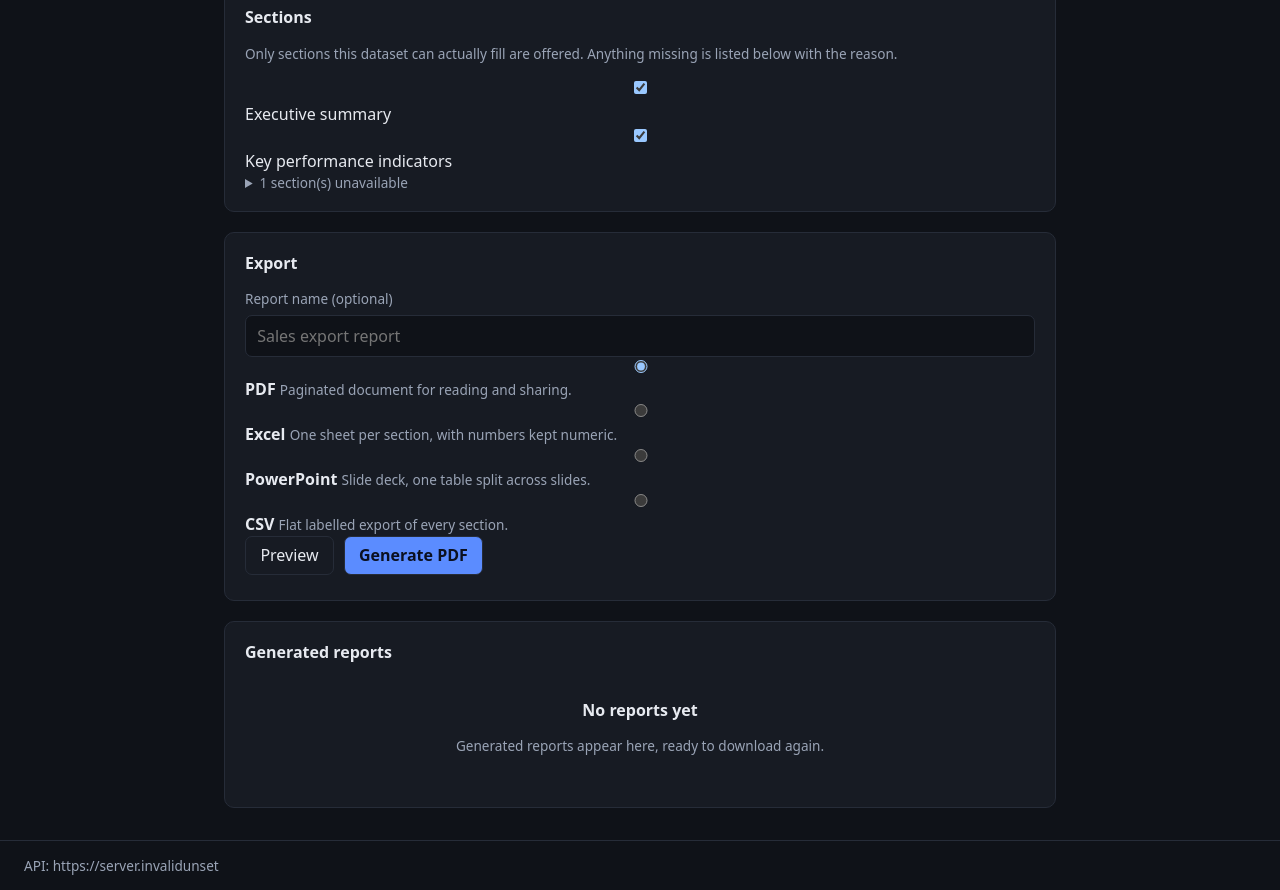
Test: DatasetReportsPage › previews the same report the export is built from
The image size is (1280, 890).
(page scrolled)
Click the button "Preview" at (290, 555), box 245,536 -> 334,575
(page scrolled)
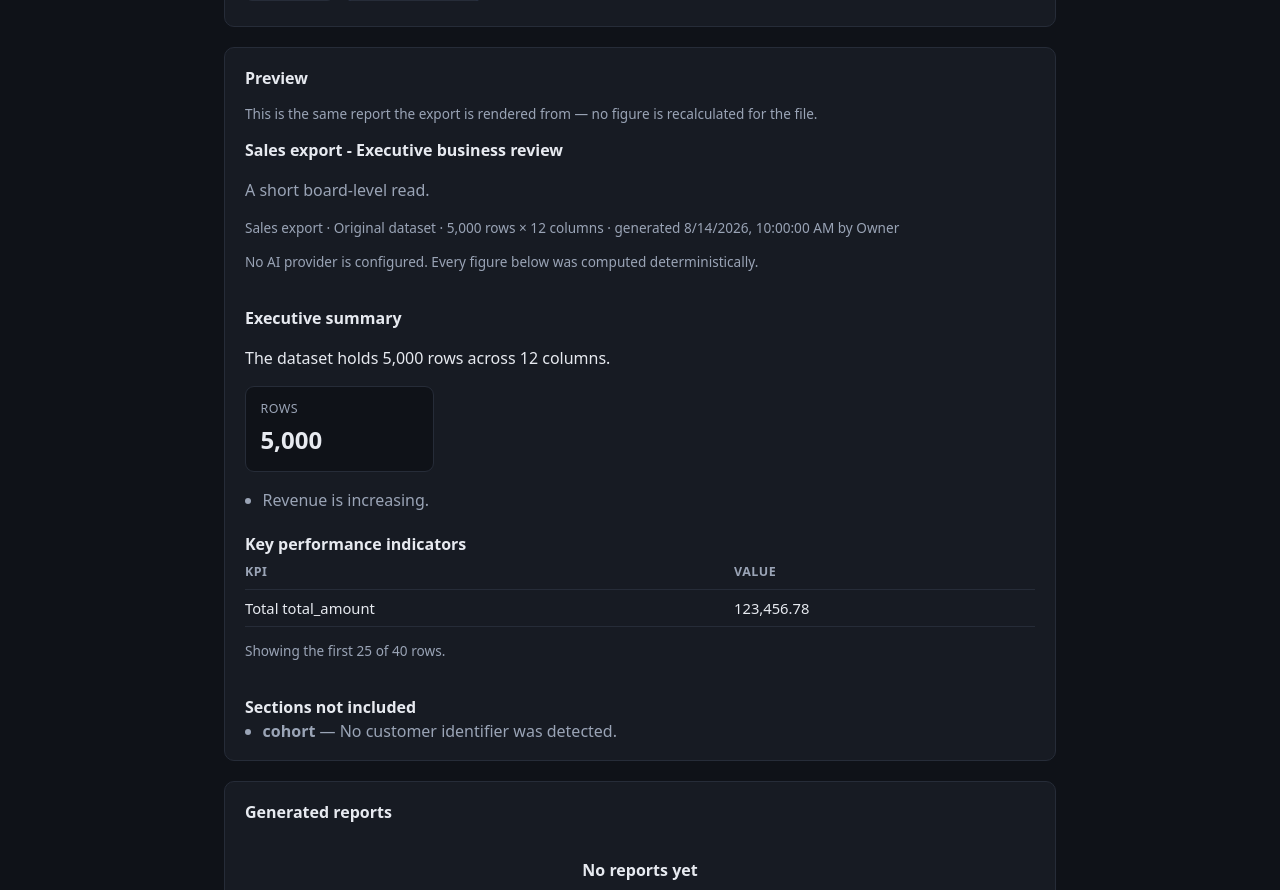
Now the element with test id "report-preview" shows "The dataset holds 5,000 rows across 12 columns.", box 245,347 -> 610,369
Now the element with test id "report-section-kpis" shows "123,456.78", box 734,598 -> 809,618
Now the element with test id "report-preview" shows "Showing the first 25 of 40 rows.", box 245,641 -> 445,660
